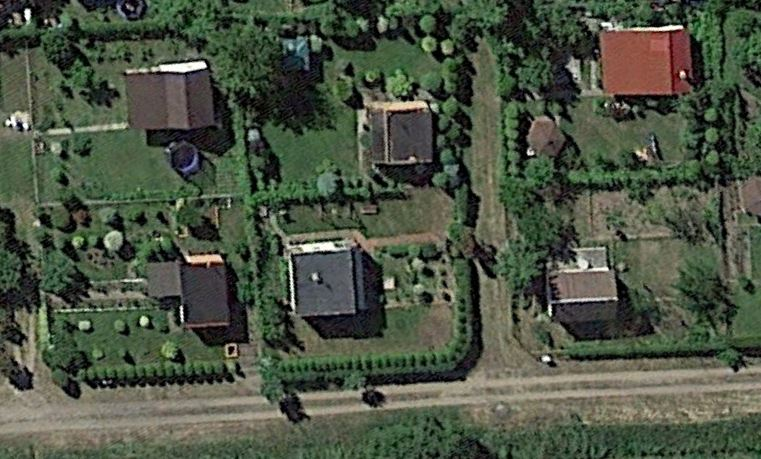family house: (534, 237, 630, 326), (121, 57, 220, 137), (282, 234, 372, 321), (597, 23, 697, 99), (170, 248, 235, 333), (366, 97, 437, 168)
